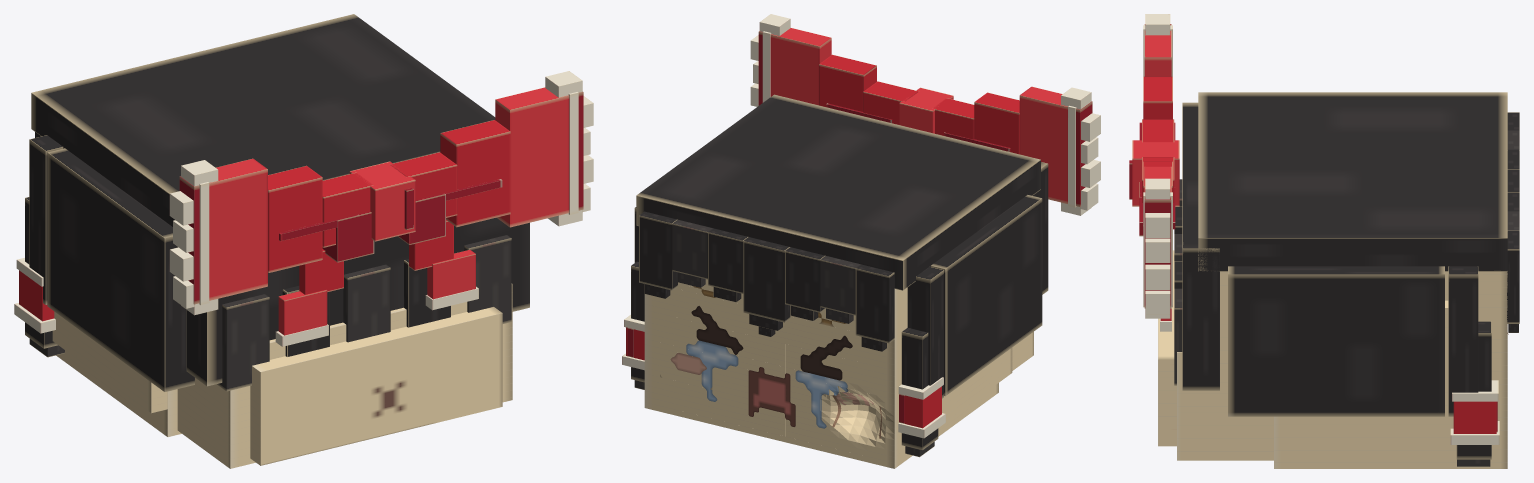
Rendered from dent_reimu_2.obj.
The picture shows the model from 3 angles, left to right: view 1: azimuth 30°, elevation 25°; view 2: azimuth 150°, elevation 25°; view 3: azimuth 270°, elevation 25°; orthographic projection. The views are drawn at different scales.
Parts seen in each view (by area): view 1: dent_reimu_2; view 2: dent_reimu_2; view 3: dent_reimu_2.
Boxes of the visible parts, x1,y1,x2,y2 form: dent_reimu_2: (14, 14, 593, 468); dent_reimu_2: (622, 14, 1100, 468); dent_reimu_2: (1129, 14, 1519, 468).
Bounding box in the file's own units: 16.28 × 12.24 × 14.49.
Materials: 1 (1 with a texture image).
